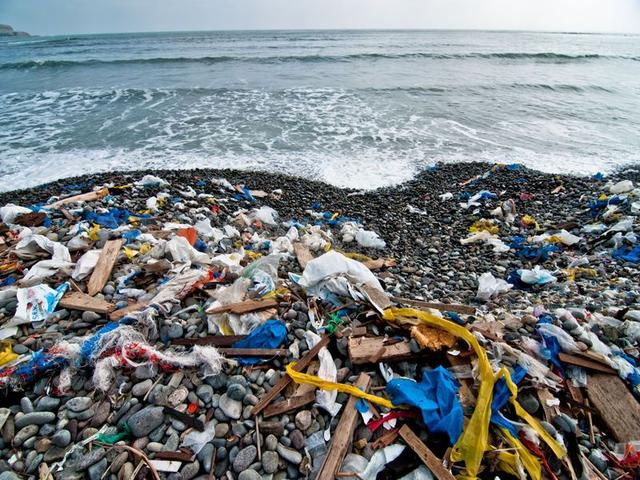garbage: (7, 216, 340, 474), (343, 306, 631, 480), (508, 215, 631, 297)
